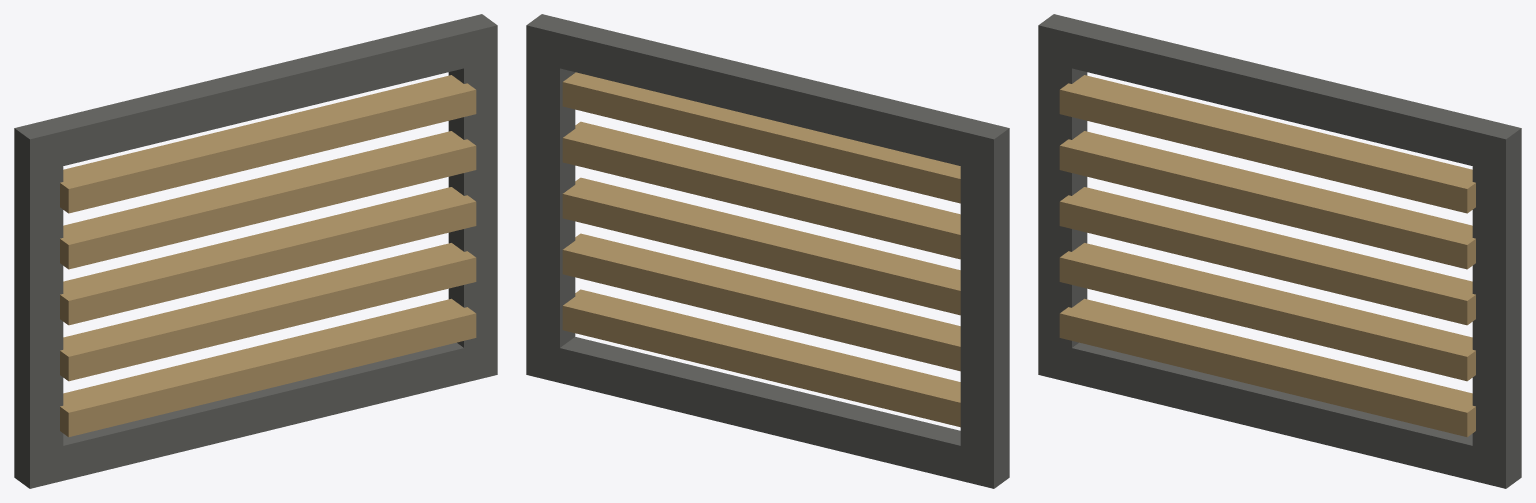
Rendered from c2_vent_grille.glb.
The picture shows the model from 3 angles, left to right: view 1: azimuth 30°, elevation 25°; view 2: azimuth 150°, elevation 25°; view 3: azimuth 330°, elevation 25°; orthographic projection.
Visible parts, largest first — view 1: c2_vent_grille; view 2: c2_vent_grille; view 3: c2_vent_grille.
Boxes of the visible parts, box(x1,y1,x2,y2) form: c2_vent_grille: box(14, 14, 497, 488); c2_vent_grille: box(526, 14, 1009, 488); c2_vent_grille: box(1038, 14, 1521, 488).
Bounding box in the file's own units: 0.28 × 0.2 × 0.025.
